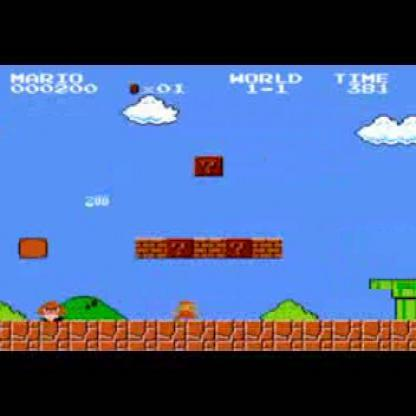Goomba: (36, 295, 66, 324)
